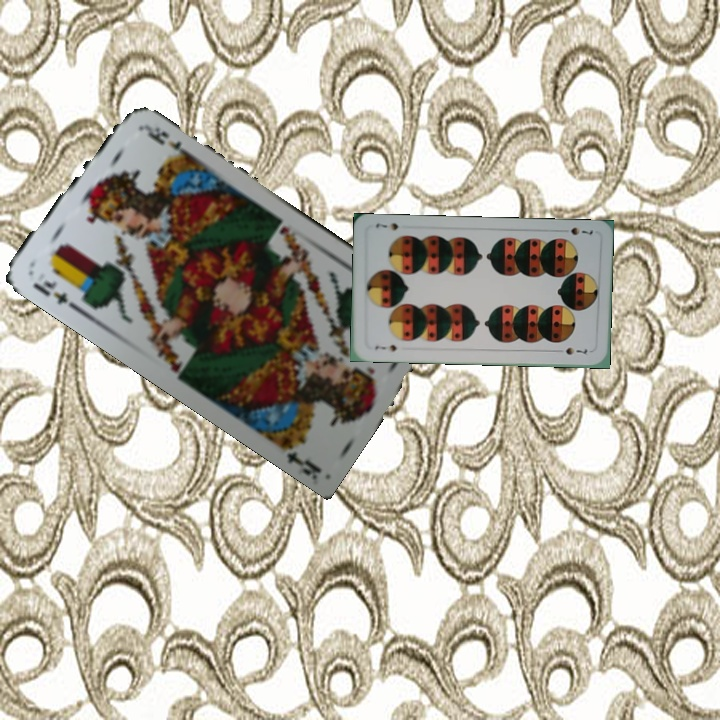EK: (29, 276, 79, 312)
S7: (557, 223, 595, 237), (371, 341, 399, 354)
